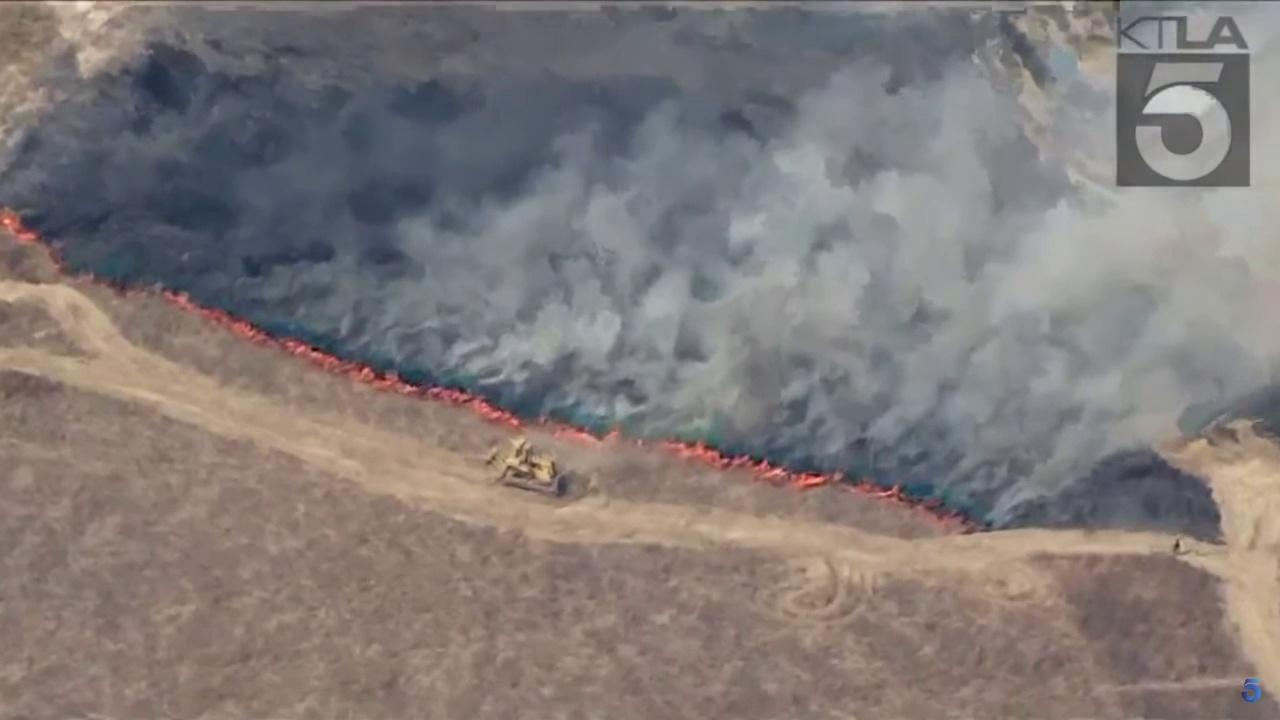fire: (158, 287, 522, 434), (552, 426, 970, 534), (0, 210, 40, 243)
smoke: (252, 0, 1280, 530)
